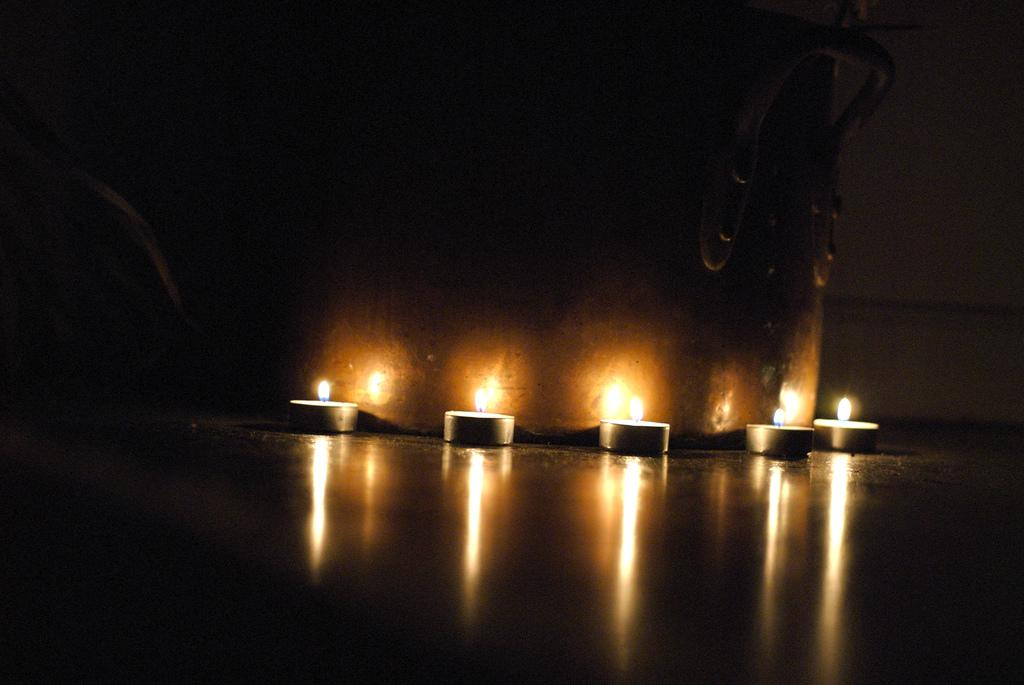fire: (592, 388, 648, 415), (775, 392, 803, 427), (312, 375, 340, 402), (838, 393, 857, 428), (473, 385, 503, 405), (375, 372, 382, 392)
